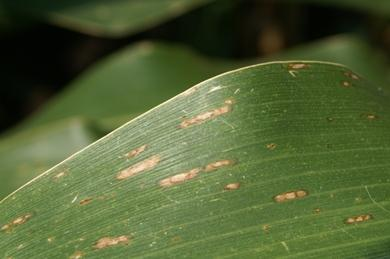Corn Gray leaf spot: (2, 62, 387, 259)
